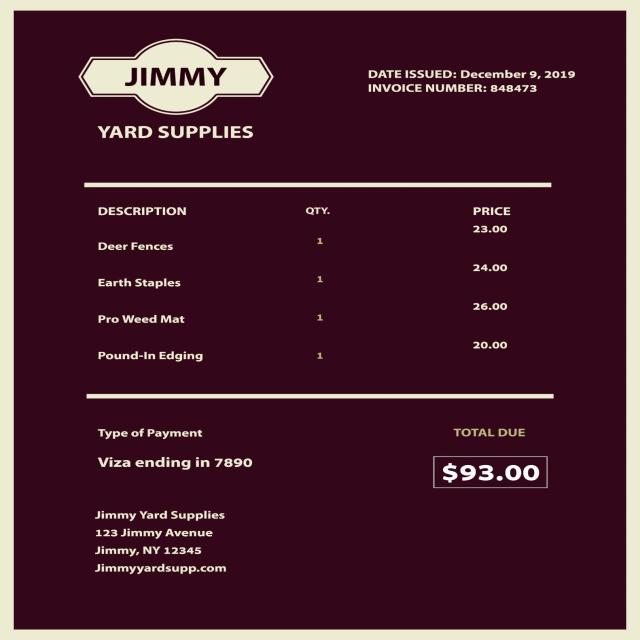paragraph: (85, 506, 240, 580), (416, 421, 560, 493), (353, 63, 588, 104), (94, 425, 263, 477), (91, 122, 263, 144), (122, 63, 232, 89)
table: (80, 176, 553, 374)
